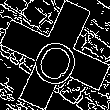O_NE: (25, 23, 85, 87)
